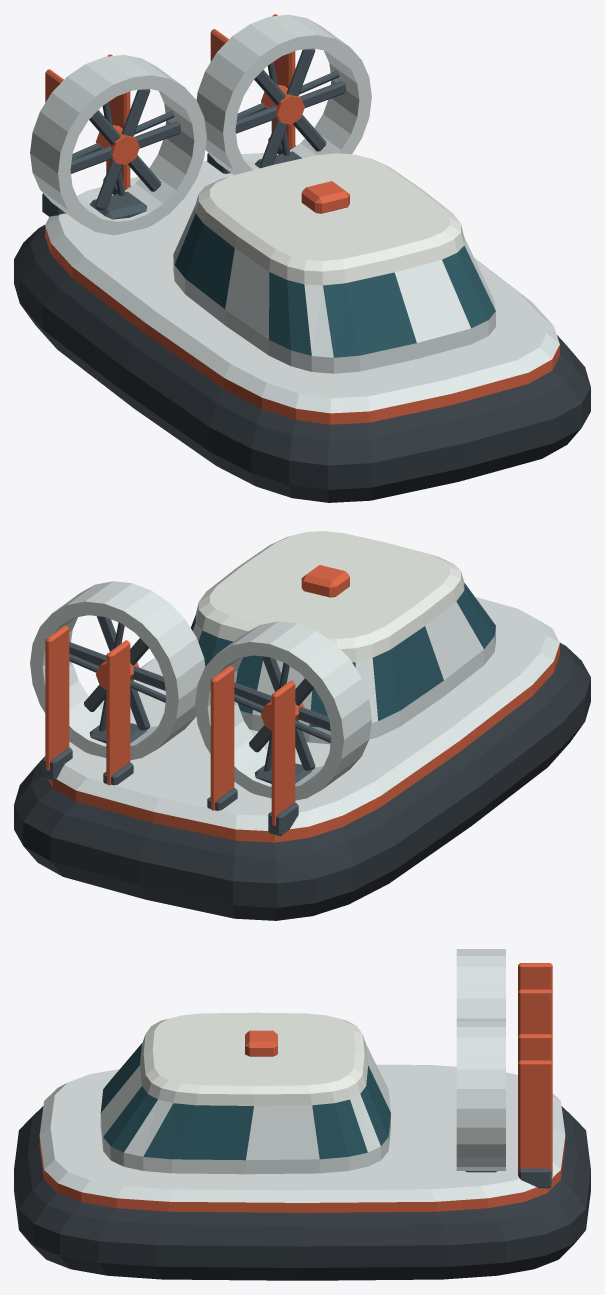
The model's file is NEW_RECOVERY_120_LOD2.fbx.
3 renders of one model, top to bottom at view 1: azimuth 30°, elevation 25°; view 2: azimuth 150°, elevation 25°; view 3: azimuth 270°, elevation 25°, orthographic. The views are drawn at different scales.
Visible parts, largest first — view 1: Hovercraft_complete_skin; view 2: Hovercraft_complete_skin; view 3: Hovercraft_complete_skin.
Part boxes in pixels (x1,y1,x2,y2): Hovercraft_complete_skin: [14, 14, 590, 502]; Hovercraft_complete_skin: [14, 531, 590, 920]; Hovercraft_complete_skin: [14, 949, 590, 1280].
Size of the model in its own units: 400 by 632 by 271.
